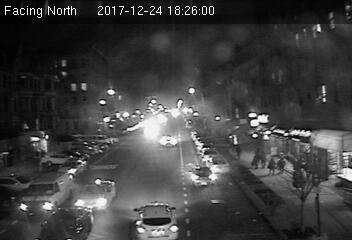car: (131, 200, 181, 239), (74, 177, 118, 212), (187, 165, 217, 189), (206, 155, 231, 174), (159, 134, 177, 148)
truck: (17, 172, 74, 217)
